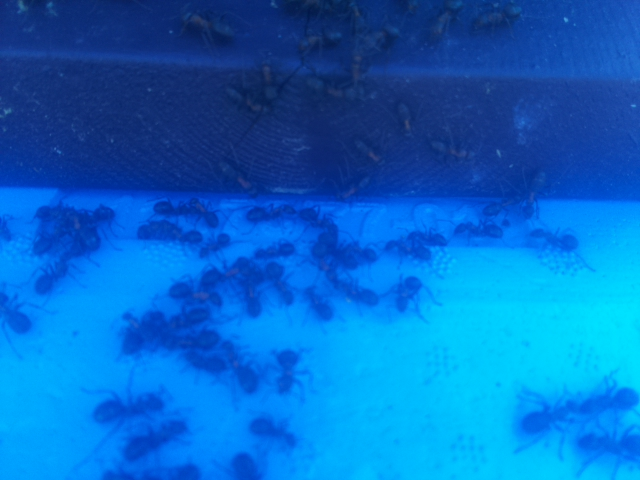ant: (0, 284, 36, 340)
